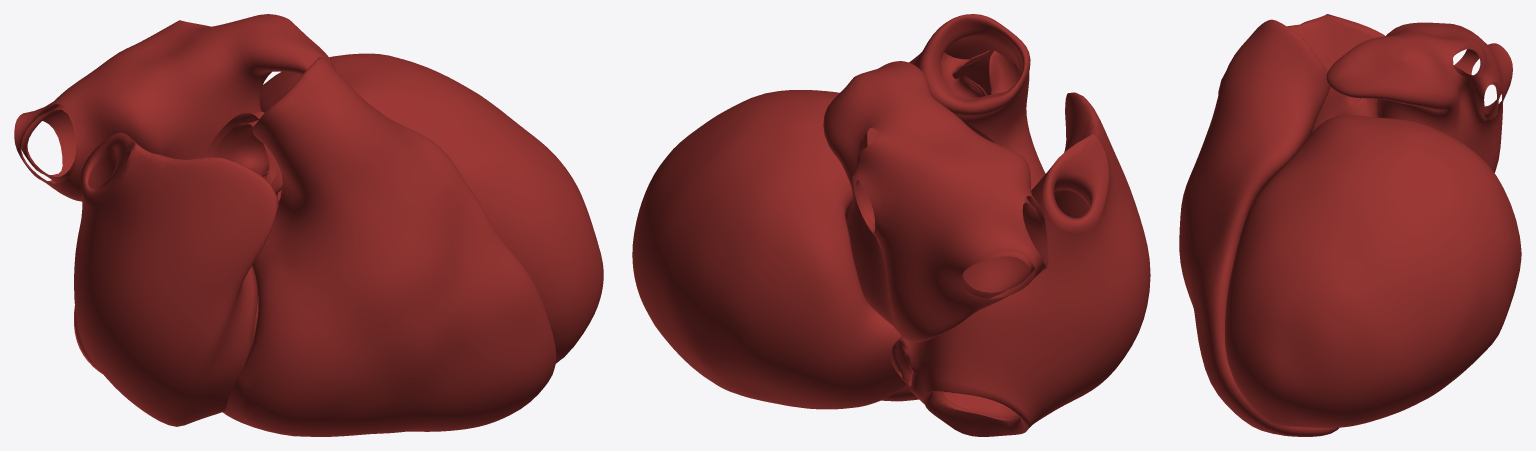
File: VH_F_Heart.obj
3 views of the same model, side by side, from view 1: azimuth 30°, elevation 25°; view 2: azimuth 150°, elevation 25°; view 3: azimuth 270°, elevation 25° (orthographic). The views are drawn at different scales.
Visible parts, largest first — view 1: VH_F_right_ventricle, VH_F_right_cardiac_atrium, VH_F_left_ventricle, VH_F_left_cardiac_atrium, VH_F_aortic_valve; view 2: VH_F_left_ventricle, VH_F_left_cardiac_atrium, VH_F_right_cardiac_atrium, VH_F_right_ventricle, VH_F_pulmonary_valve; view 3: VH_F_left_ventricle, VH_F_right_ventricle, VH_F_left_cardiac_atrium, VH_F_right_cardiac_atrium, VH_F_aortic_valve.
Part boxes in pixels (x1,y1,x2,y2): VH_F_right_ventricle: (222,57,556,436); VH_F_right_cardiac_atrium: (74,132,278,426); VH_F_left_ventricle: (259,53,603,363); VH_F_left_cardiac_atrium: (14,14,335,201); VH_F_aortic_valve: (204,111,282,202); VH_F_left_ventricle: (632,90,906,409); VH_F_left_cardiac_atrium: (823,61,1048,342); VH_F_right_cardiac_atrium: (890,92,1150,436); VH_F_right_ventricle: (881,14,1045,401); VH_F_pulmonary_valve: (940,50,1022,97); VH_F_left_ventricle: (1225,115,1521,427); VH_F_right_ventricle: (1179,19,1339,436); VH_F_left_cardiac_atrium: (1326,22,1512,172); VH_F_right_cardiac_atrium: (1218,14,1385,101); VH_F_aortic_valve: (1312,87,1377,132).
Size of the model in its own units: 0.1425 by 0.11 by 0.1015.
